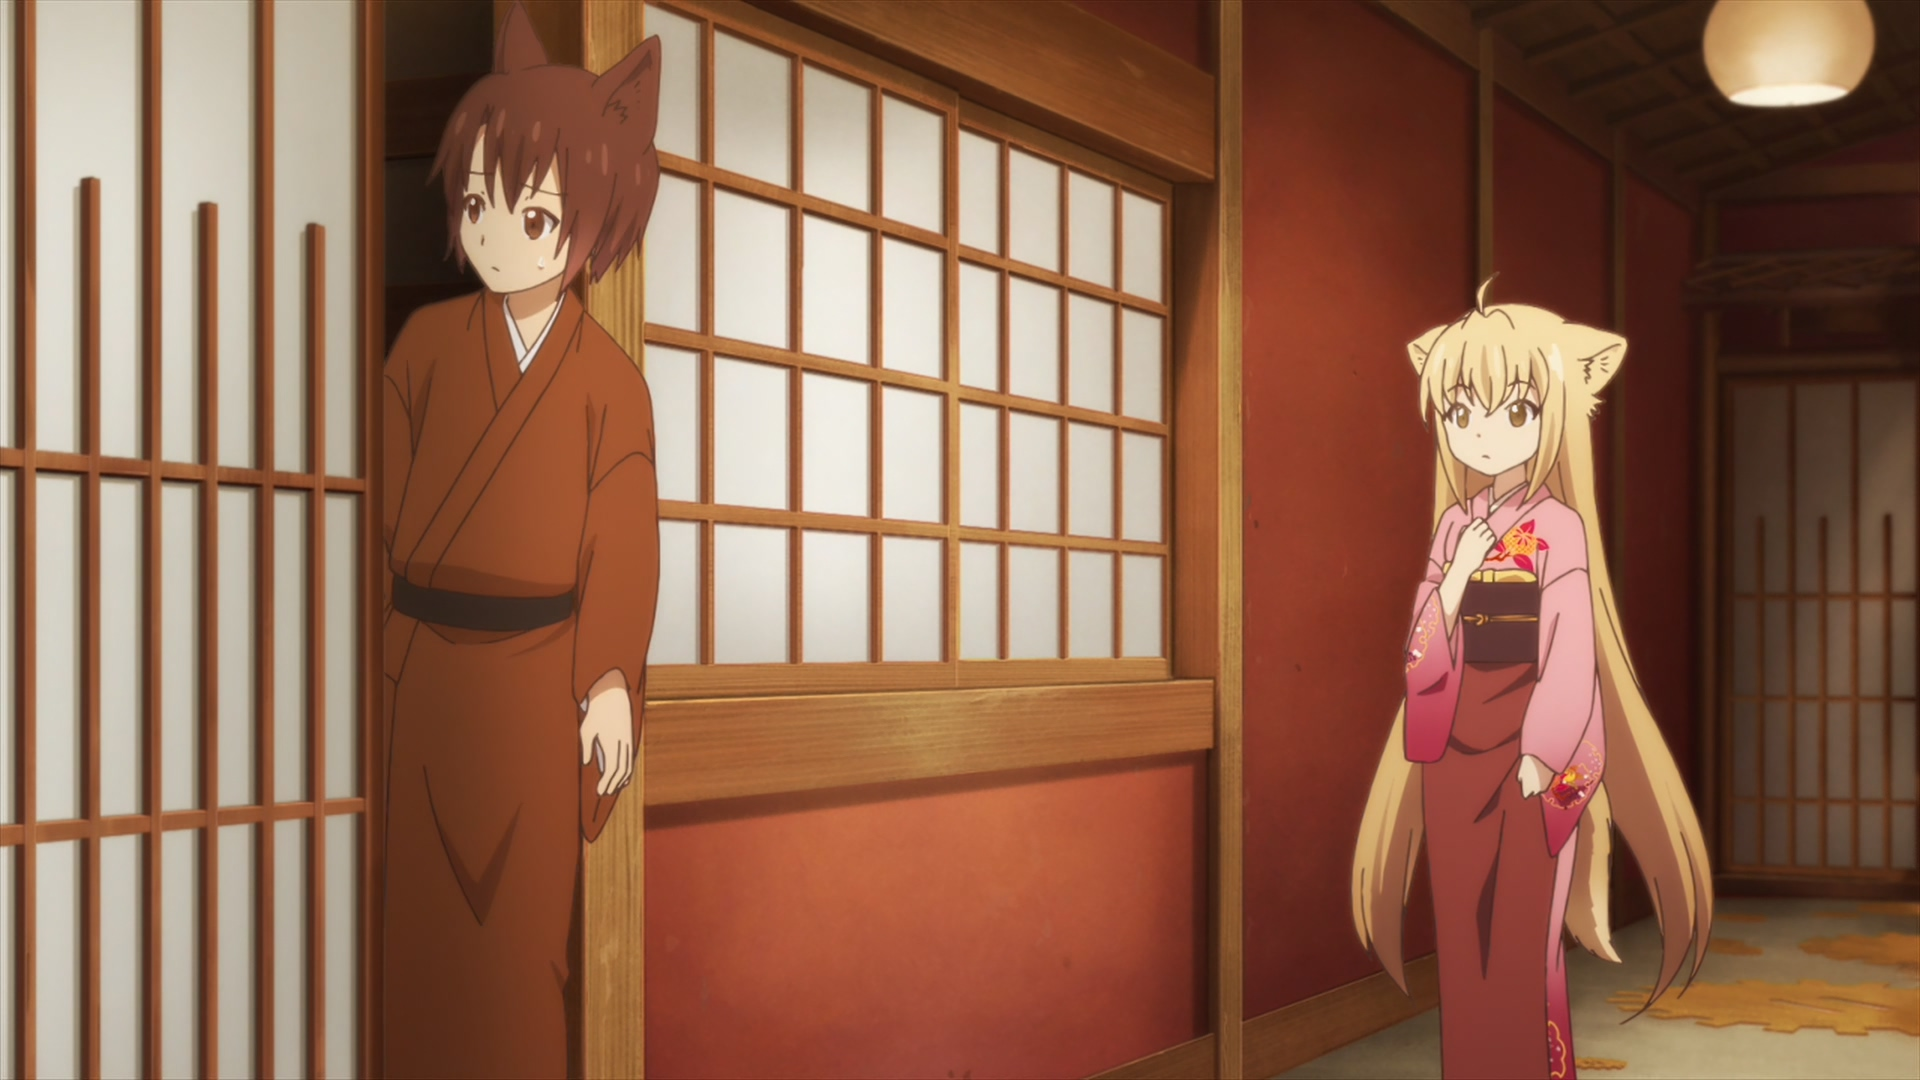枣: (385, 1, 663, 1080)
柚: (1350, 265, 1713, 1080)
